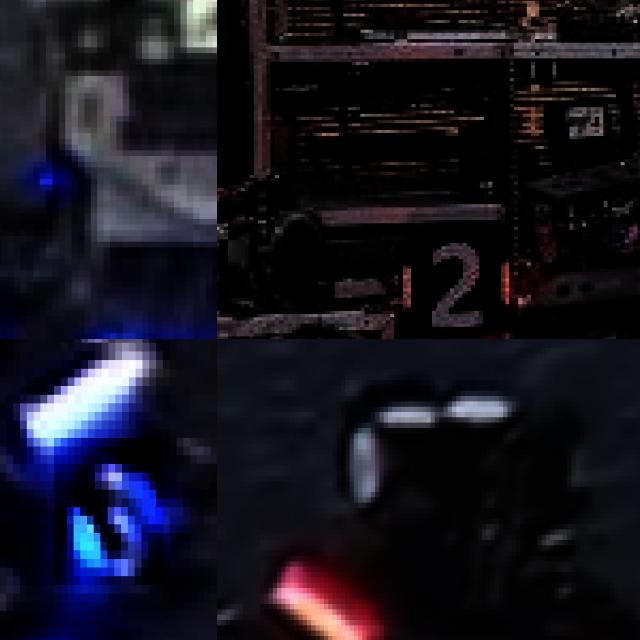B3: (54, 438, 163, 585)
R2: (398, 240, 510, 330)
